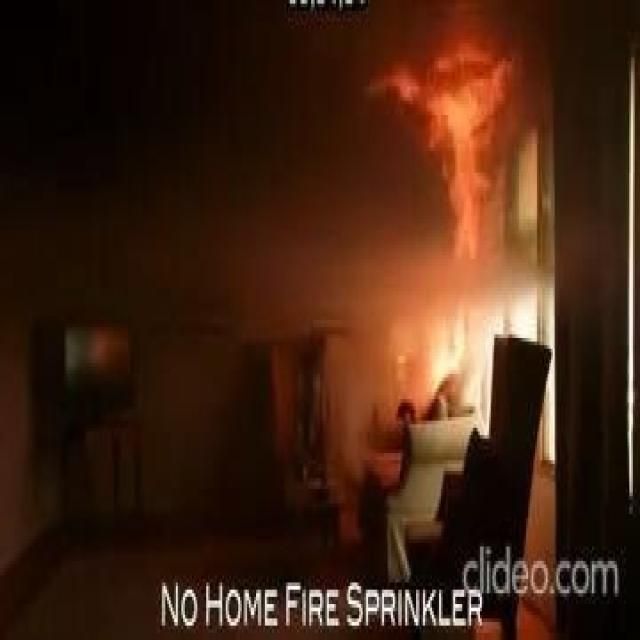fire: (369, 20, 523, 433)
